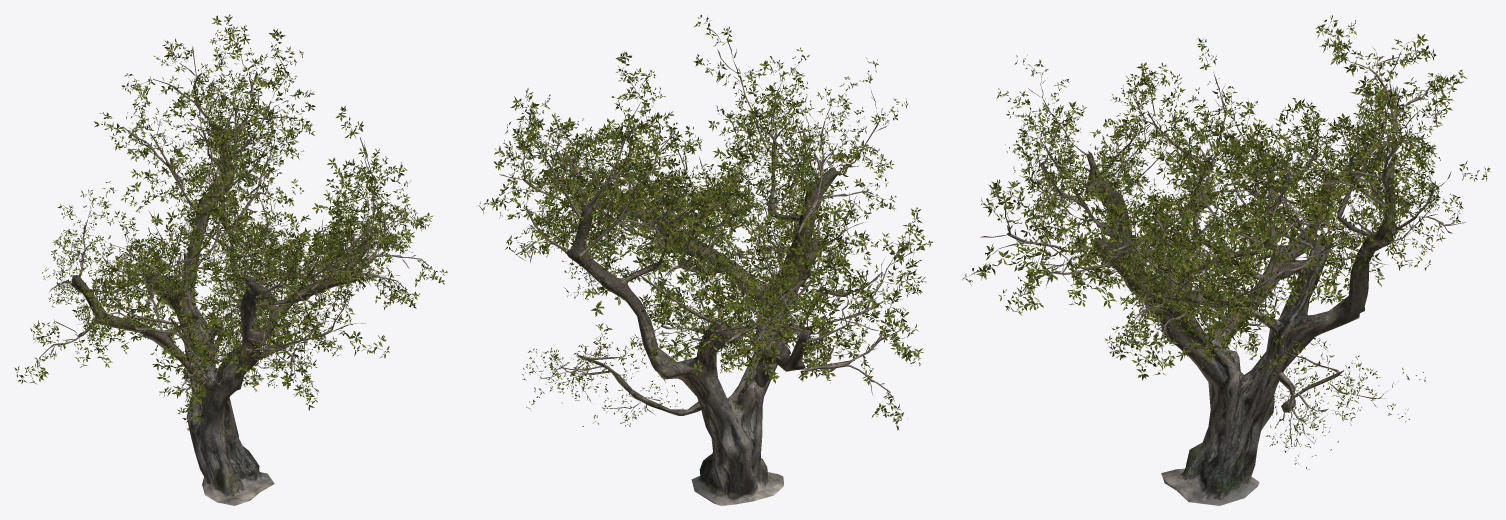
The model's file is island_tree_01.glb.
The picture shows the model from 3 angles, left to right: view 1: azimuth 30°, elevation 25°; view 2: azimuth 150°, elevation 25°; view 3: azimuth 270°, elevation 25°; orthographic projection. The views are drawn at different scales.
Bounding box in the file's own units: 4.74 × 5.02 × 4.82.
3 materials, 3 textured.
